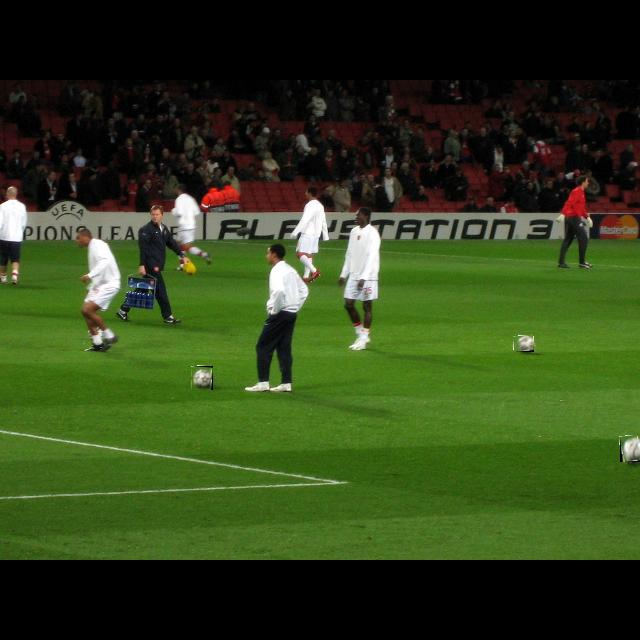Football: (191, 366, 213, 390), (620, 436, 640, 462), (514, 336, 534, 352)
